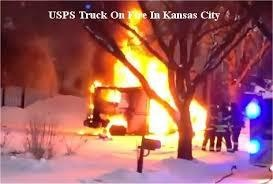fire: (190, 96, 208, 153)
